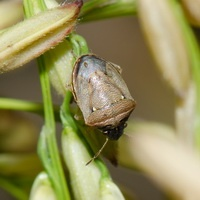insect: (72, 54, 135, 139)
